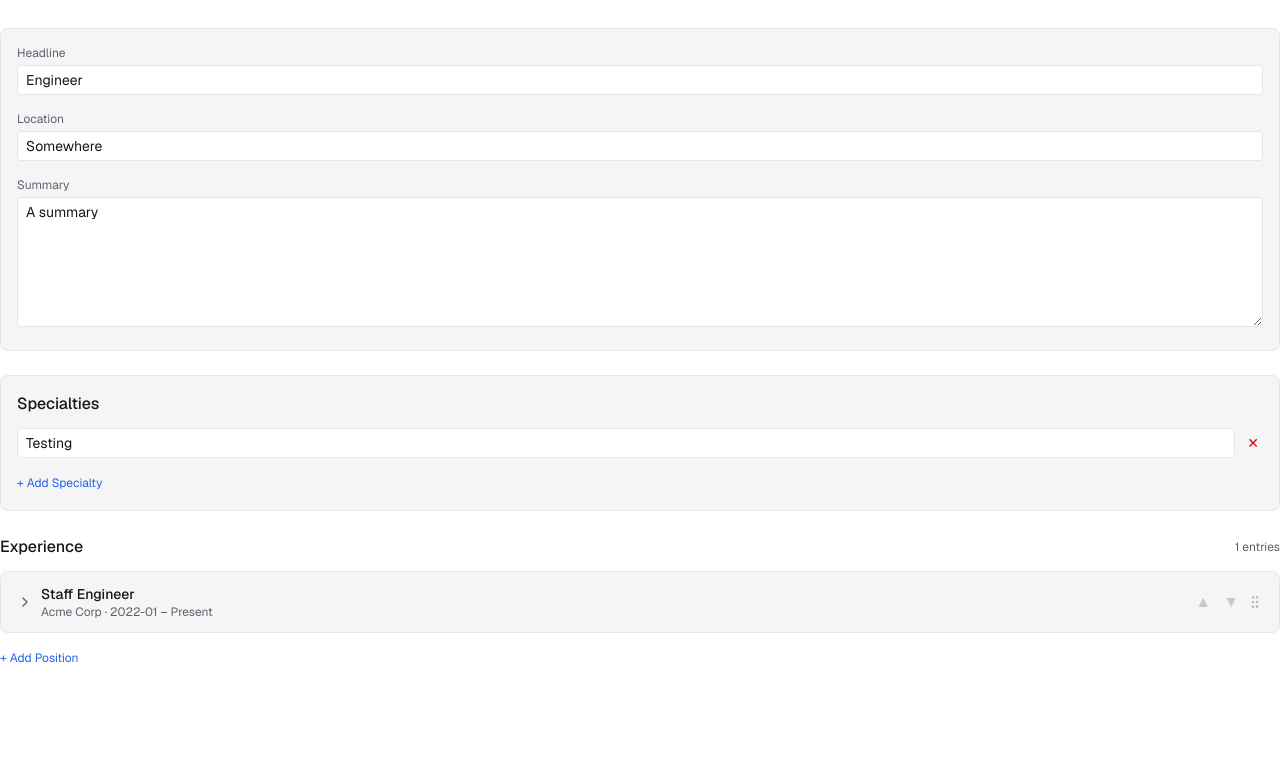
Scenario: CVTab › expands experience entry on click
Click the text "Staff Engineer" at (88, 594), box [41,585,135,603]
(page scrolled)
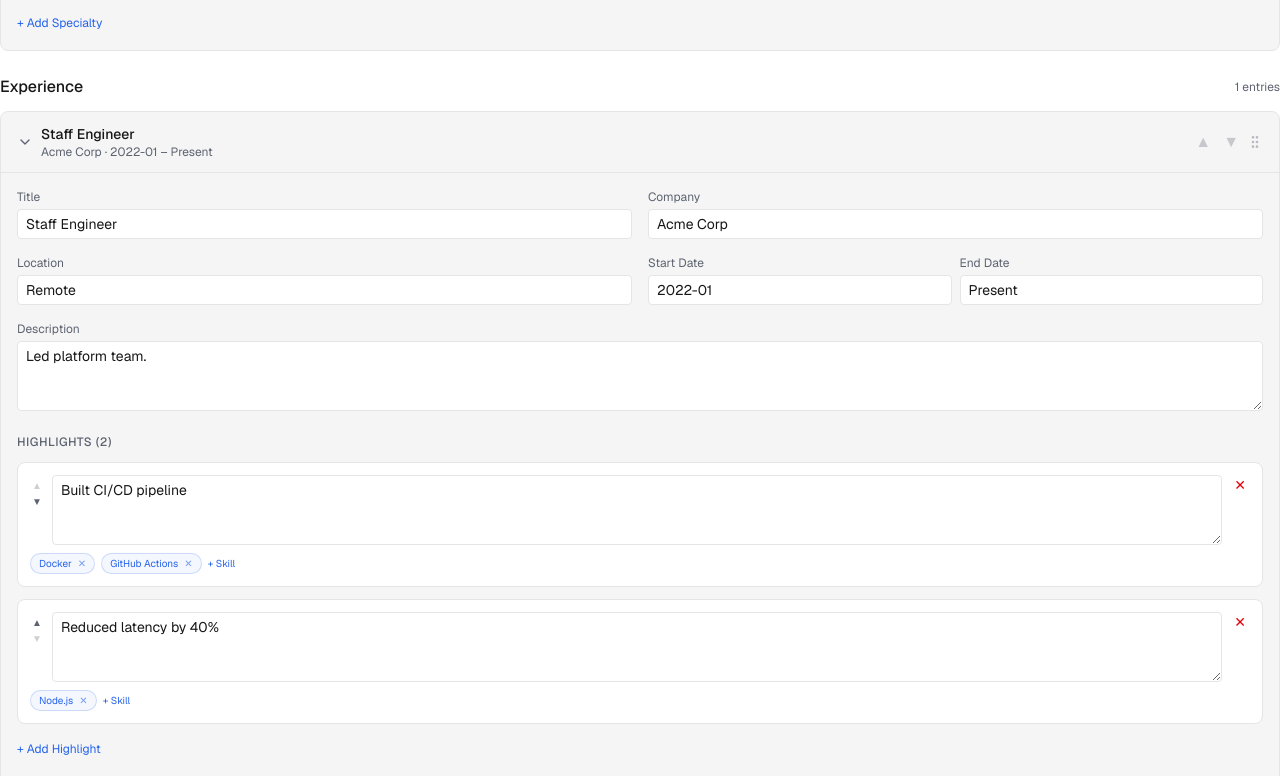
Check: the field named "Title" is shown, box [17,209,632,239]
Check: the field named "Company" is shown, box [648,209,1263,239]
Check: the field named "Experience Location" is shown, box [17,275,632,305]
